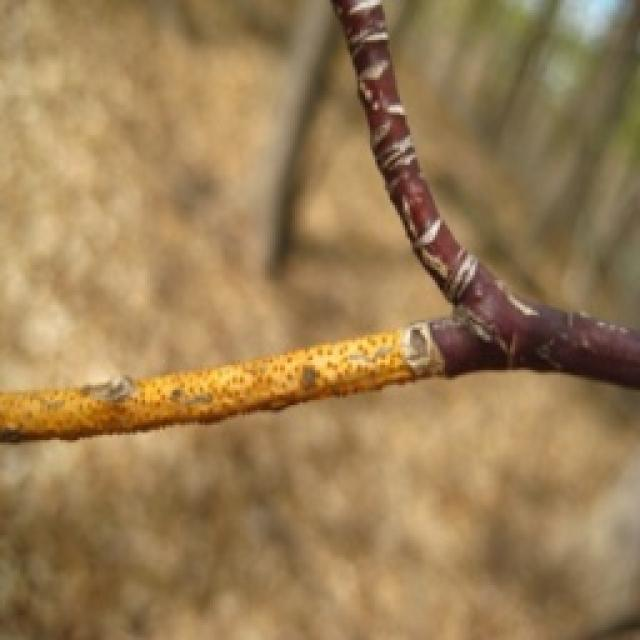Golden_canker: (0, 318, 448, 448)
